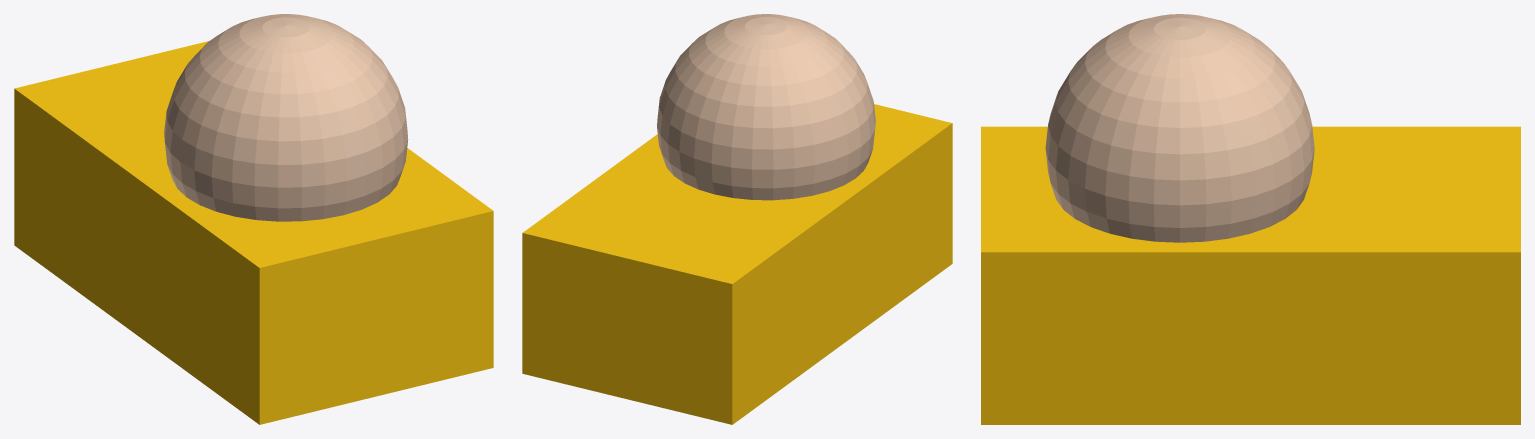
The model's file is player_left_foot_sole.obj.
The picture shows the model from 3 angles, left to right: view 1: azimuth 30°, elevation 25°; view 2: azimuth 150°, elevation 25°; view 3: azimuth 270°, elevation 25°; orthographic projection. The views are drawn at different scales.
Parts seen in each view (by area): view 1: 立方體.015, 球體.009_球體.004; view 2: 立方體.015, 球體.009_球體.004; view 3: 立方體.015, 球體.009_球體.004.
Boxes of the visible parts, box(x1,y1,x2,y2) form: 立方體.015: box(14, 41, 493, 424); 球體.009_球體.004: box(164, 14, 408, 221); 立方體.015: box(522, 104, 952, 424); 球體.009_球體.004: box(657, 14, 875, 200); 立方體.015: box(981, 126, 1520, 424); 球體.009_球體.004: box(1045, 14, 1314, 242).
Bounding box in the file's own units: 0.6413 × 0.7985 × 1.16.
Materials: 2 (2 with a texture image).
